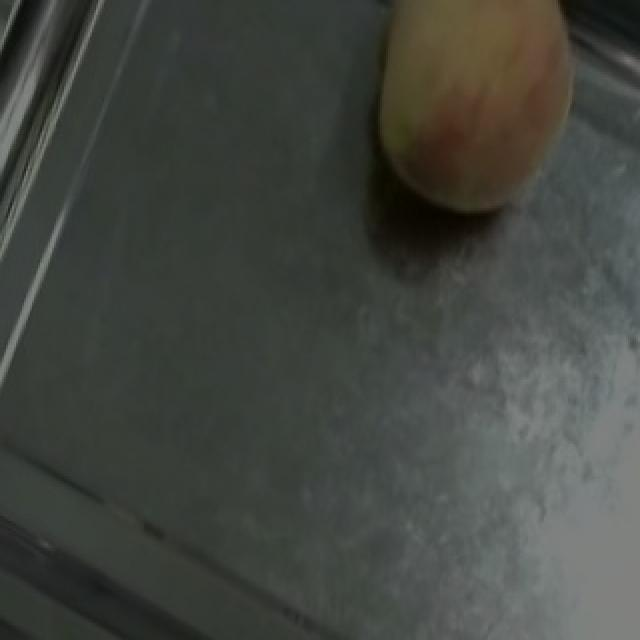Fruit: (332, 0, 600, 241)
